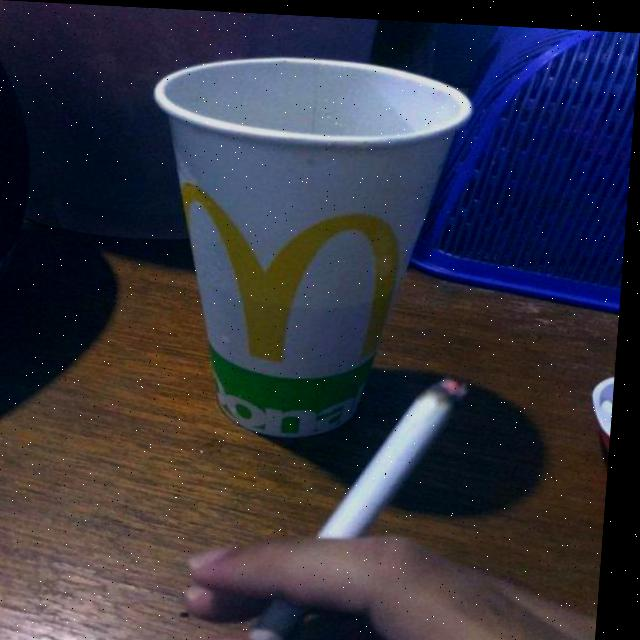cigarette: (257, 366, 471, 640)
